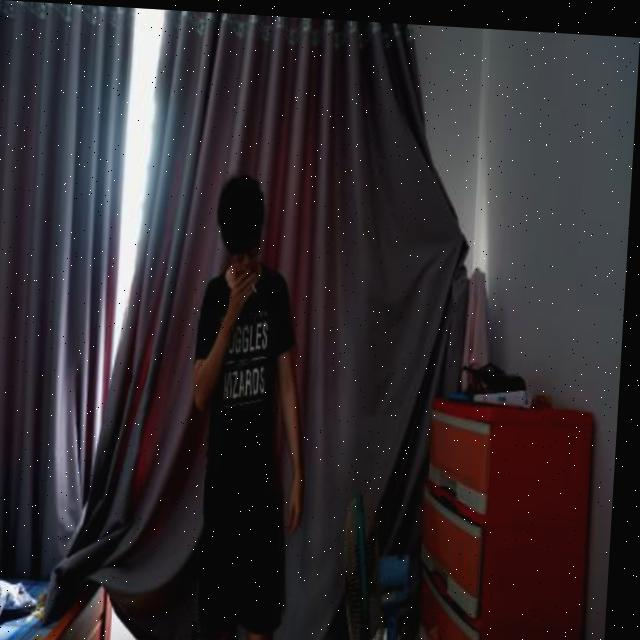cigarette: (254, 278, 261, 291)
